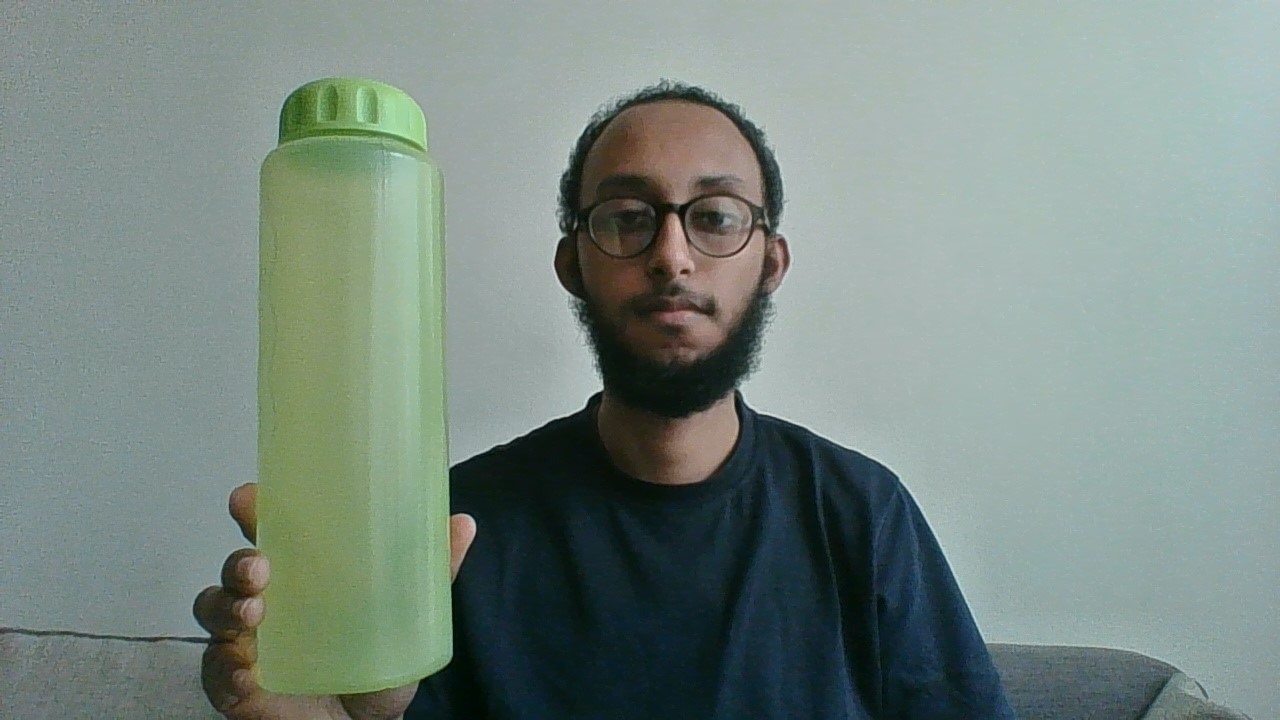Water_bottle: (245, 67, 462, 706)
